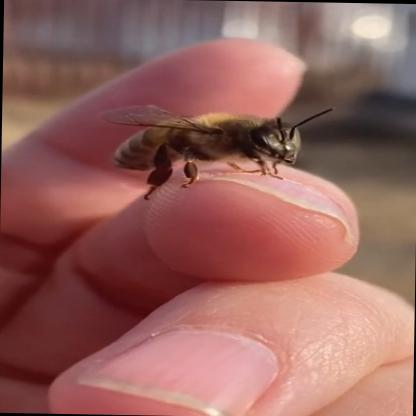bee: (108, 72, 358, 204)
